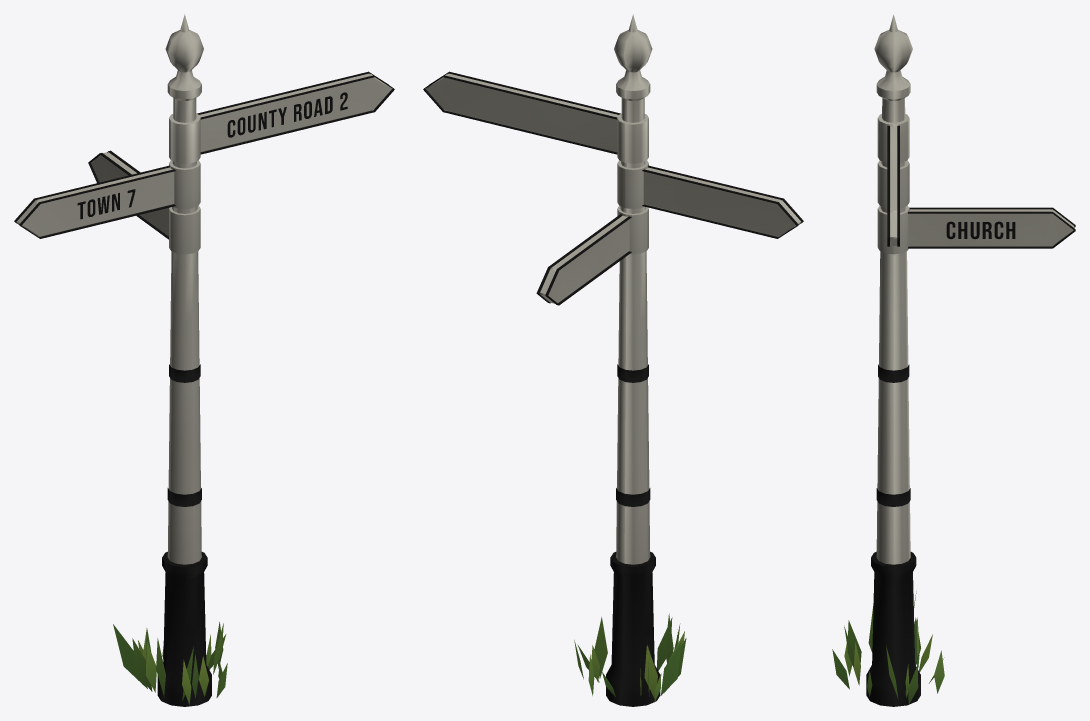
File: signpost.glb
3 views of the same model, side by side, from view 1: azimuth 30°, elevation 25°; view 2: azimuth 150°, elevation 25°; view 3: azimuth 270°, elevation 25° (orthographic).
Parts seen in each view (by area): view 1: Body, Grass; view 2: Body, Grass; view 3: Body, Grass.
Boxes of the visible parts, x1,y1,x2,y2 form: Body: (14,14,394,706); Grass: (113,622,227,704); Body: (423,14,803,706); Grass: (574,613,686,701); Body: (866,14,1075,706); Grass: (832,591,944,704).
Bounding box in the file's own units: 1.9 × 3.31 × 1.07.
